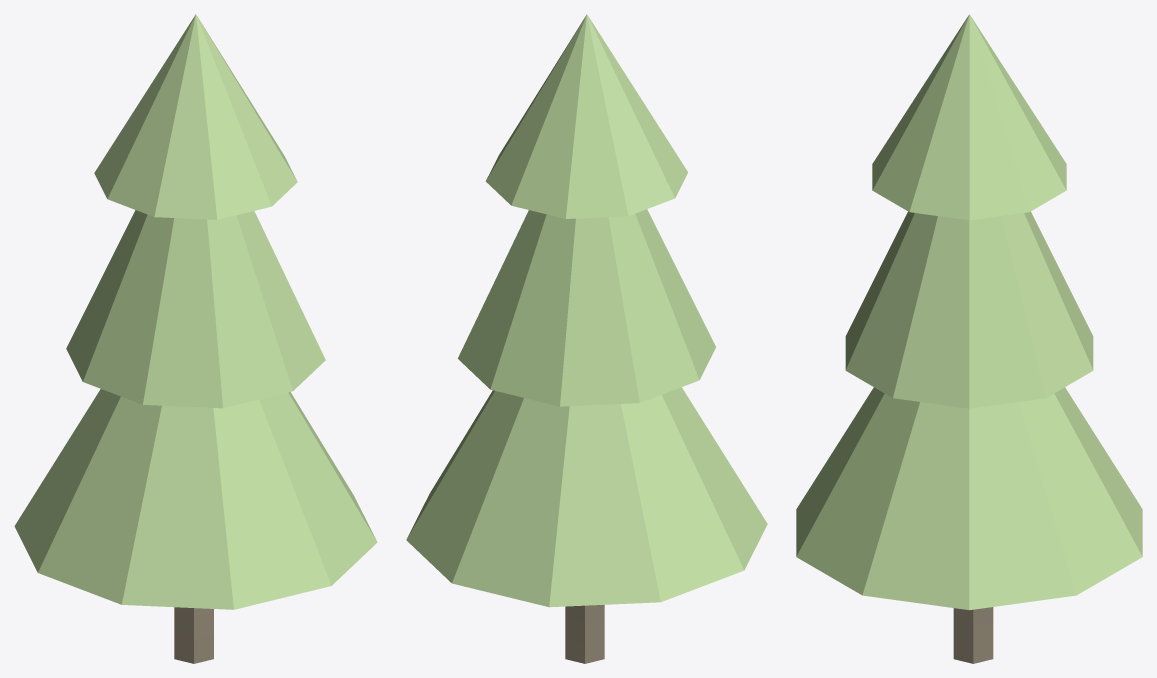
File: Pine Tree.fbx
3 views of the same model, side by side, from view 1: azimuth 30°, elevation 25°; view 2: azimuth 150°, elevation 25°; view 3: azimuth 270°, elevation 25° (orthographic).
Parts seen in each view (by area): view 1: Pine_Tree; view 2: Pine_Tree; view 3: Pine_Tree.
Part boxes in pixels (left/top/right/bottom): Pine_Tree: left=14, top=14, right=377, bottom=663; Pine_Tree: left=406, top=14, right=767, bottom=663; Pine_Tree: left=796, top=14, right=1142, bottom=663.
Bounding box in the file's own units: 200 × 388 × 190.
